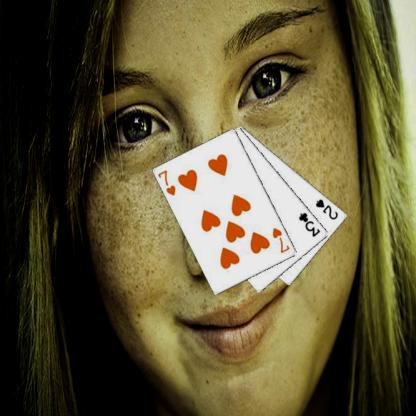2S: (313, 196, 340, 221)
3C: (296, 210, 322, 238)
7H: (156, 167, 178, 197), (270, 225, 291, 255)
